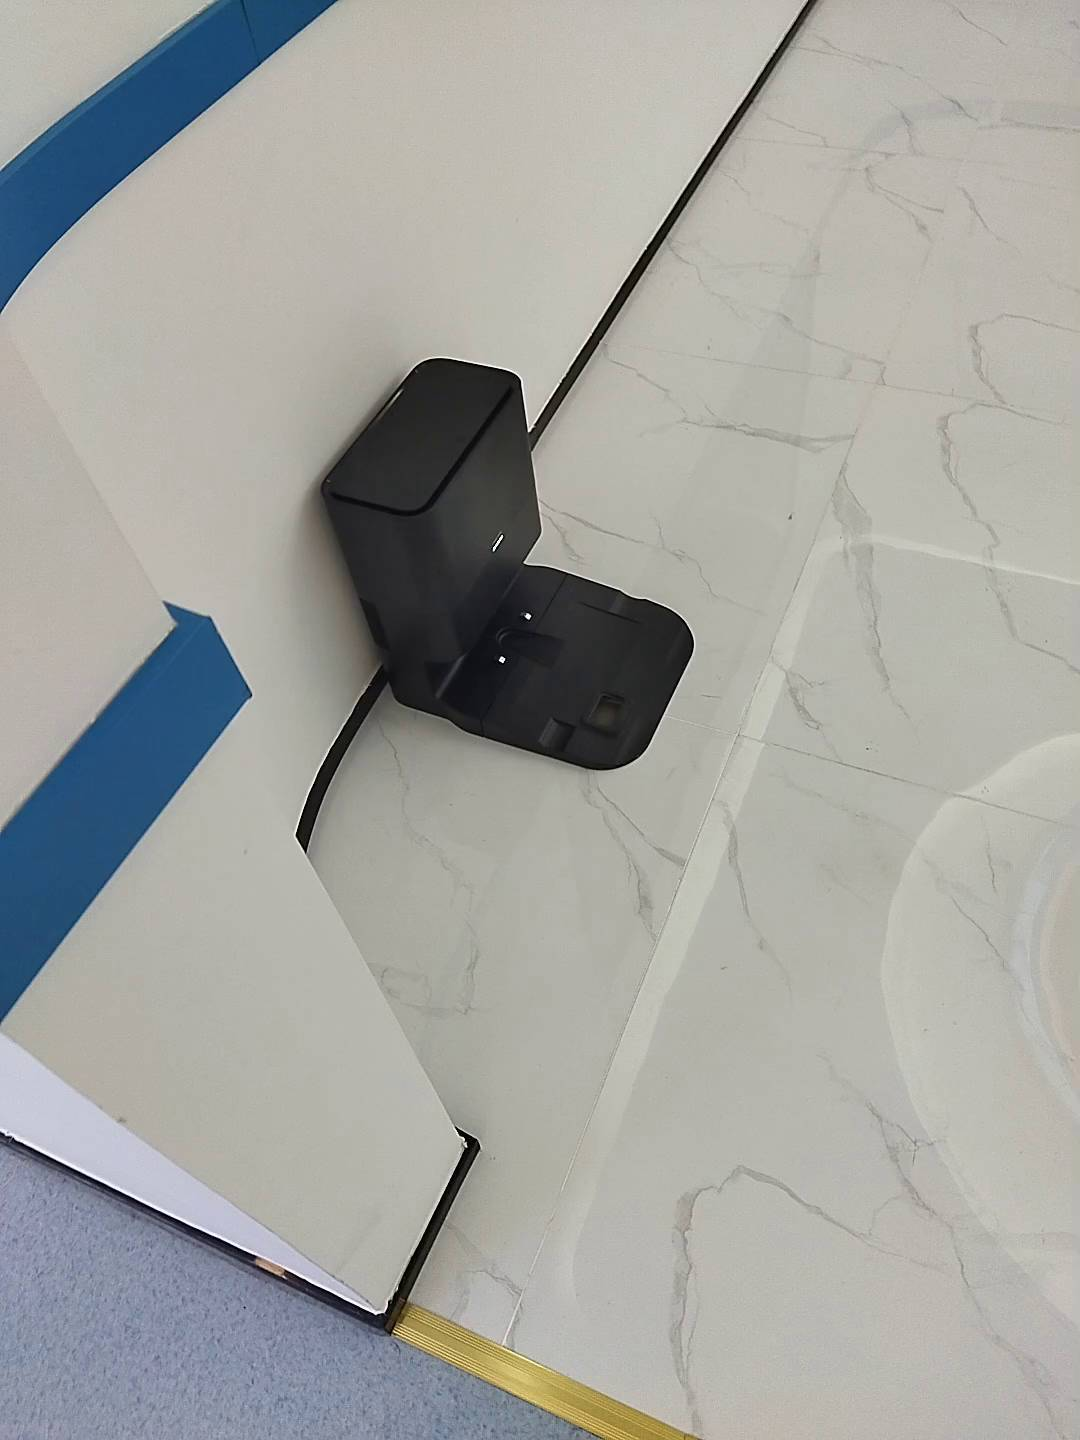dust collecting barrel: (319, 358, 695, 773)
